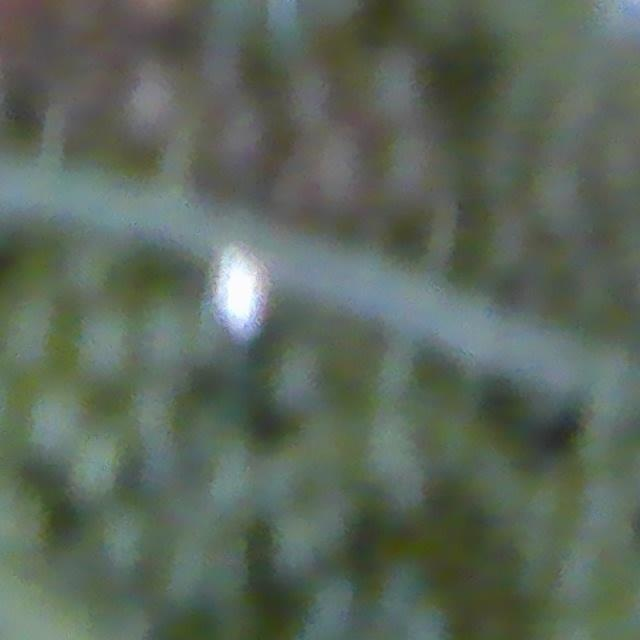SeaGrape: (216, 98, 288, 194), (284, 134, 356, 218), (67, 304, 139, 386), (0, 293, 70, 374), (20, 381, 92, 459), (108, 46, 172, 130), (352, 38, 416, 122), (276, 46, 336, 134), (384, 130, 444, 210)
